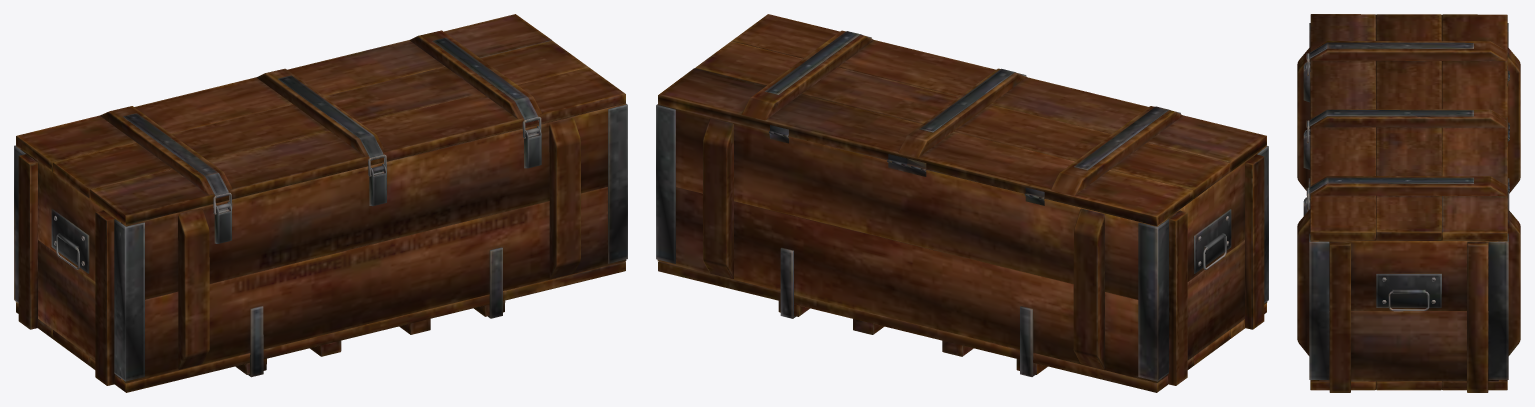
File: wooden_military_crate.glb
The picture shows the model from 3 angles, left to right: view 1: azimuth 30°, elevation 25°; view 2: azimuth 150°, elevation 25°; view 3: azimuth 270°, elevation 25°; orthographic projection. The views are drawn at different scales.
Visible parts, largest first — view 1: wooden_military_crate; view 2: wooden_military_crate; view 3: wooden_military_crate.
Part boxes in pixels (box(x1,y1,x2,y2)): wooden_military_crate: box(14, 14, 627, 392); wooden_military_crate: box(656, 14, 1268, 392); wooden_military_crate: box(1297, 14, 1520, 392).
Size of the model in its own units: 1.24 by 0.4639 by 0.5198.
Materials: 1 (1 with a texture image).
